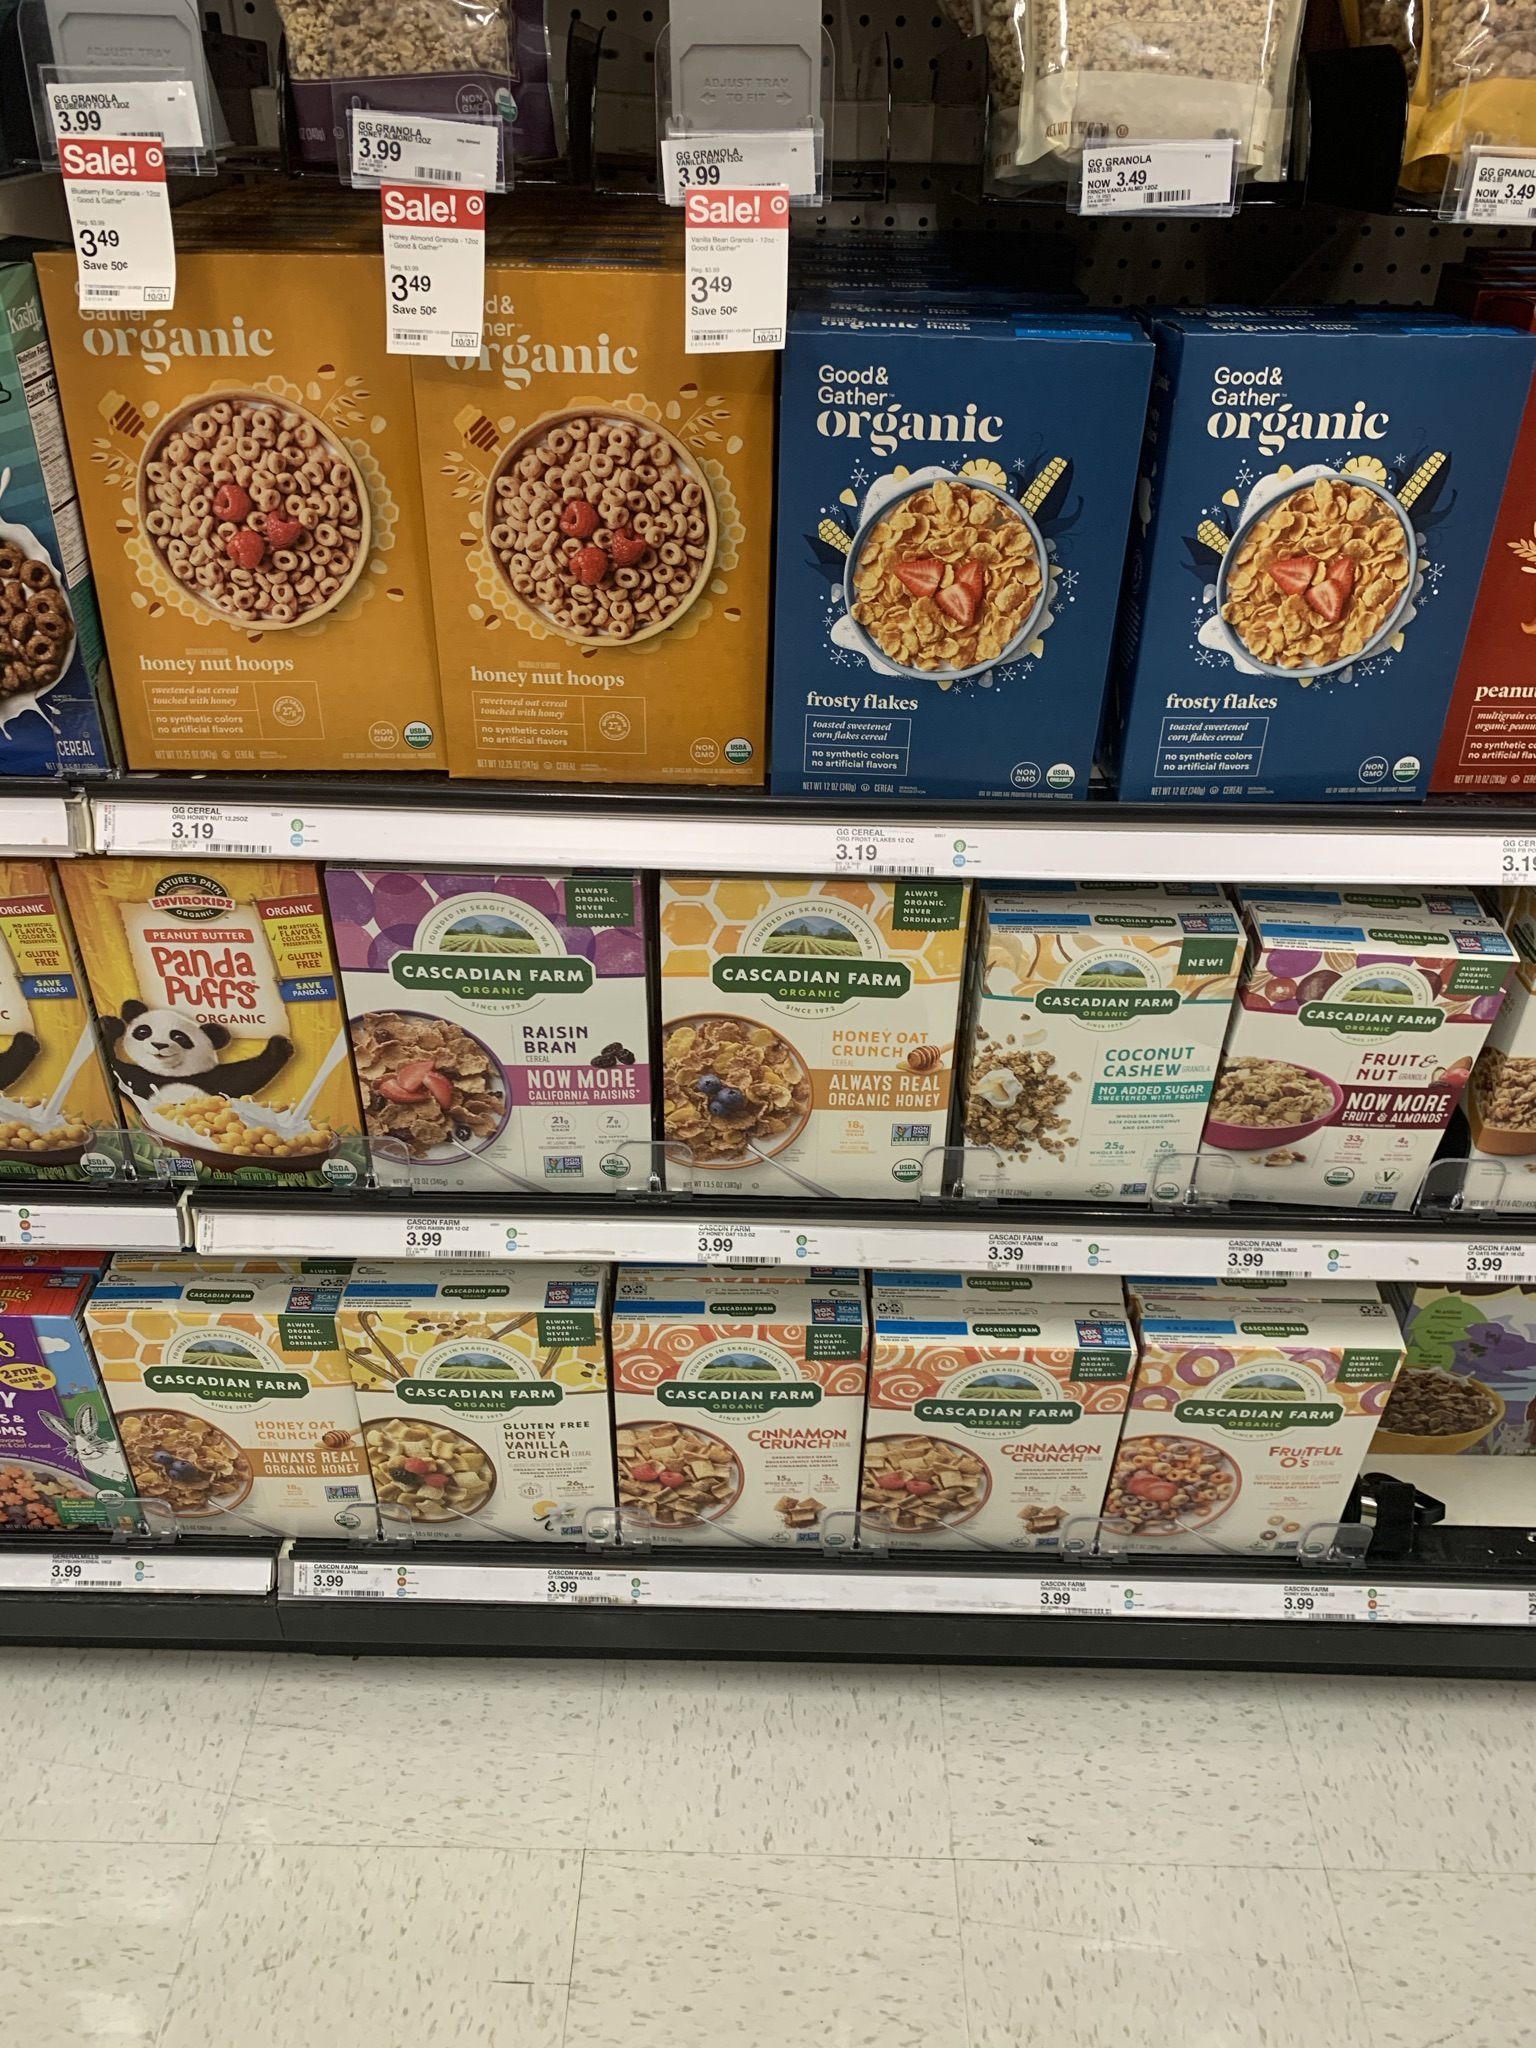Cereal cascadian: (678, 879, 958, 1211), (392, 879, 653, 1184), (98, 1306, 360, 1555), (999, 929, 1213, 1205), (1263, 948, 1475, 1226), (629, 1330, 862, 1550), (382, 1319, 608, 1534), (902, 1335, 1107, 1555), (1175, 1361, 1359, 1587)
Cereal good and gather: (74, 276, 444, 779), (444, 281, 765, 801), (784, 340, 1102, 801), (1194, 339, 1454, 806)
Cereal panda puff: (73, 871, 365, 1201)
